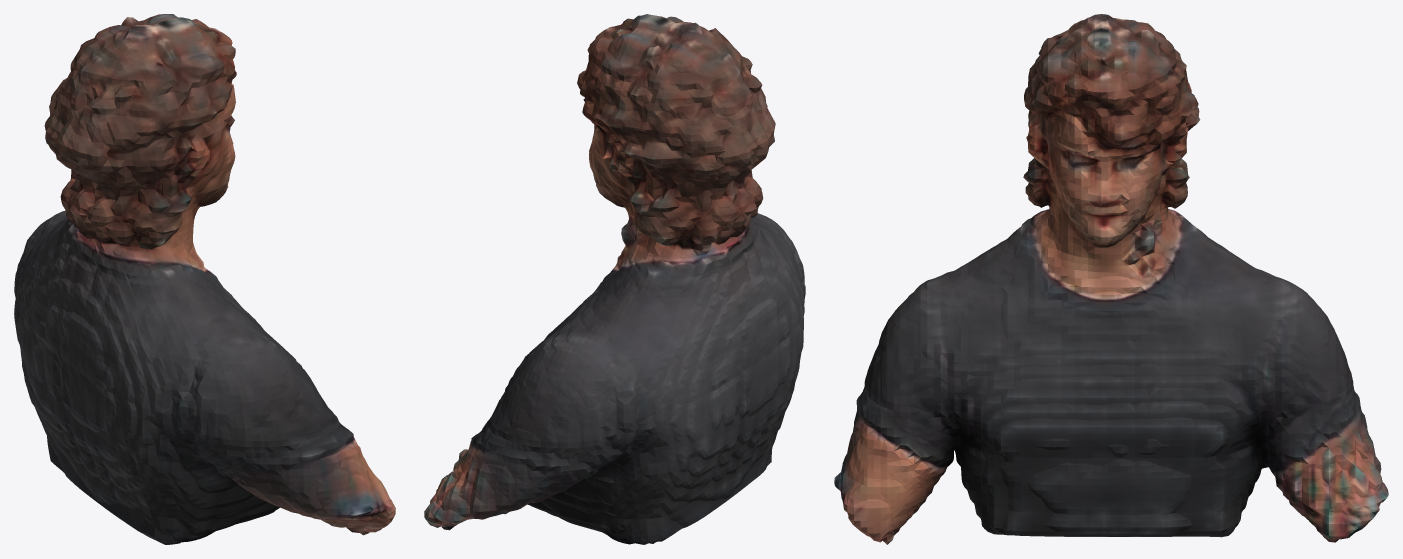
The picture shows the model from 3 angles, left to right: view 1: azimuth 30°, elevation 25°; view 2: azimuth 150°, elevation 25°; view 3: azimuth 270°, elevation 25°; orthographic projection. The views are drawn at different scales.
Visible parts, largest first — view 1: mesh.obj; view 2: mesh.obj; view 3: mesh.obj.
Part boxes in pixels (<box>): mesh.obj: <box>14,14,395,544</box>; mesh.obj: <box>424,14,805,544</box>; mesh.obj: <box>834,14,1388,544</box>.
Size of the model in its own units: 0.4721 by 0.9717 by 1.01.
Materials: 1 (1 with a texture image).
